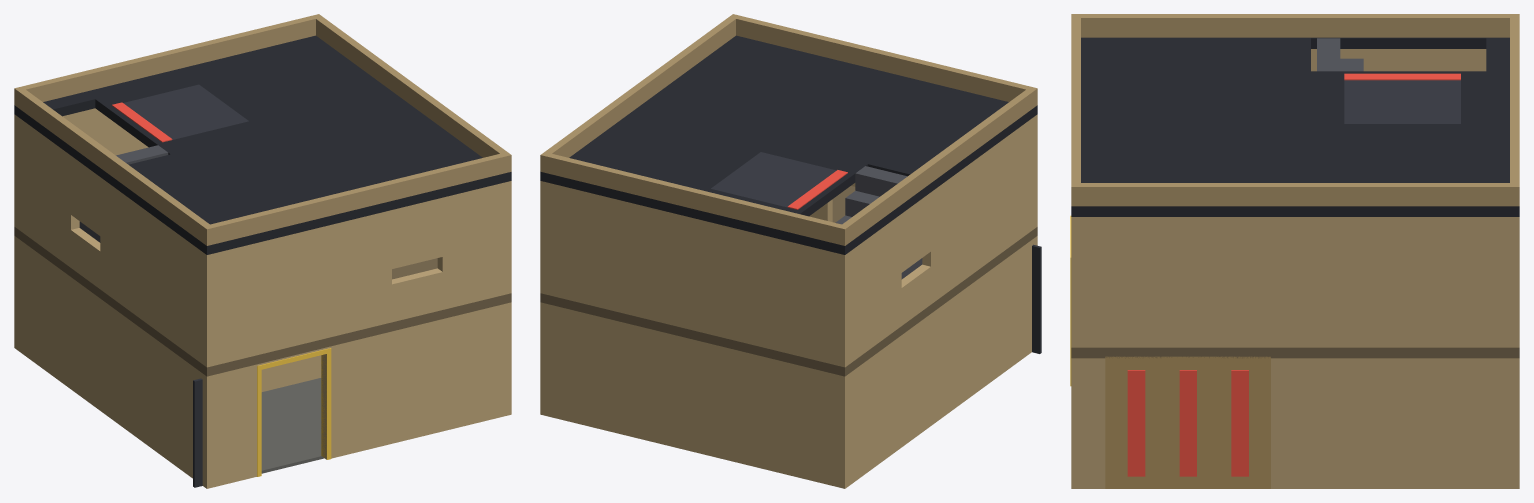
The model's file is lab.glb.
3 views of the same model, side by side, from view 1: azimuth 30°, elevation 25°; view 2: azimuth 150°, elevation 25°; view 3: azimuth 270°, elevation 25° (orthographic). The views are drawn at different scales.
Parts seen in each view (by area): view 1: shell_l1, shell_l0, roof_structural, roof_parapet, floor_l1, floor_l0, breakable_roof_weak_panel, trim_l0, breakable_front_door_leaf, stair, breakable_roof_weak_panel_mark; view 2: shell_l1, shell_l0, roof_structural, roof_parapet, floor_l1, breakable_roof_weak_panel, stair, breakable_front_door_leaf, breakable_roof_weak_panel_mark; view 3: shell_l1, roof_structural, shell_l0, roof_parapet, breakable_breach_panel, breakable_breach_panel_stripe, breakable_roof_weak_panel, floor_l1, stair, breakable_roof_weak_panel_mark.
Boxes of the visible parts, x1,y1,x2,y2 form: shell_l1: (14, 108, 511, 367); shell_l0: (14, 236, 511, 488); roof_structural: (14, 35, 511, 254); roof_parapet: (14, 14, 511, 245); floor_l1: (14, 227, 511, 376); floor_l0: (261, 378, 324, 473); breakable_roof_weak_panel: (123, 84, 248, 139); trim_l0: (257, 348, 331, 476); breakable_front_door_leaf: (193, 378, 202, 487); stair: (79, 145, 168, 242); breakable_roof_weak_panel_mark: (112, 102, 172, 142); shell_l1: (540, 114, 1037, 367); shell_l0: (540, 236, 1037, 488); roof_structural: (540, 35, 1037, 254); roof_parapet: (540, 14, 1037, 245); floor_l1: (540, 186, 1037, 376); breakable_roof_weak_panel: (711, 152, 836, 207); stair: (835, 166, 922, 279); breakable_front_door_leaf: (1032, 244, 1041, 353); breakable_roof_weak_panel_mark: (787, 170, 847, 209); shell_l1: (1071, 49, 1519, 347); roof_structural: (1071, 37, 1519, 216); shell_l0: (1071, 358, 1519, 488); roof_parapet: (1071, 14, 1519, 206); breakable_breach_panel: (1105, 356, 1270, 488); breakable_breach_panel_stripe: (1127, 370, 1248, 476); breakable_roof_weak_panel: (1344, 80, 1460, 123); floor_l1: (1071, 347, 1519, 358); stair: (1317, 38, 1363, 71); breakable_roof_weak_panel_mark: (1344, 73, 1460, 80).
Size of the model in its own units: 43.32 by 34.6 by 46.1.
